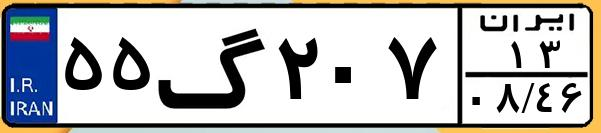0: (330, 28, 385, 110), (470, 70, 495, 125)
1: (508, 27, 537, 80)
2: (270, 28, 330, 110)
3: (537, 27, 568, 80)
4: (535, 70, 560, 125)
5: (57, 26, 110, 100), (110, 28, 156, 98)
6: (560, 70, 590, 125)
7: (385, 28, 445, 110)
8: (495, 70, 520, 125)
گ: (156, 12, 270, 120)
